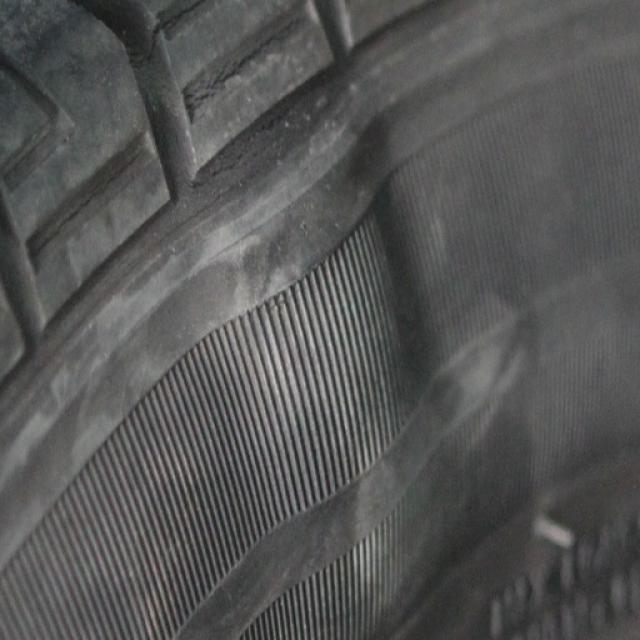Bulge: (195, 114, 405, 410), (314, 408, 485, 640)
